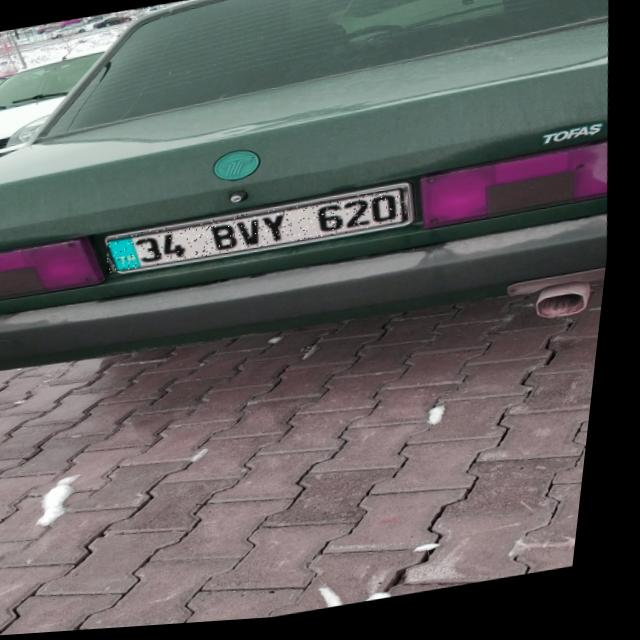license_plate: (110, 192, 416, 275)
